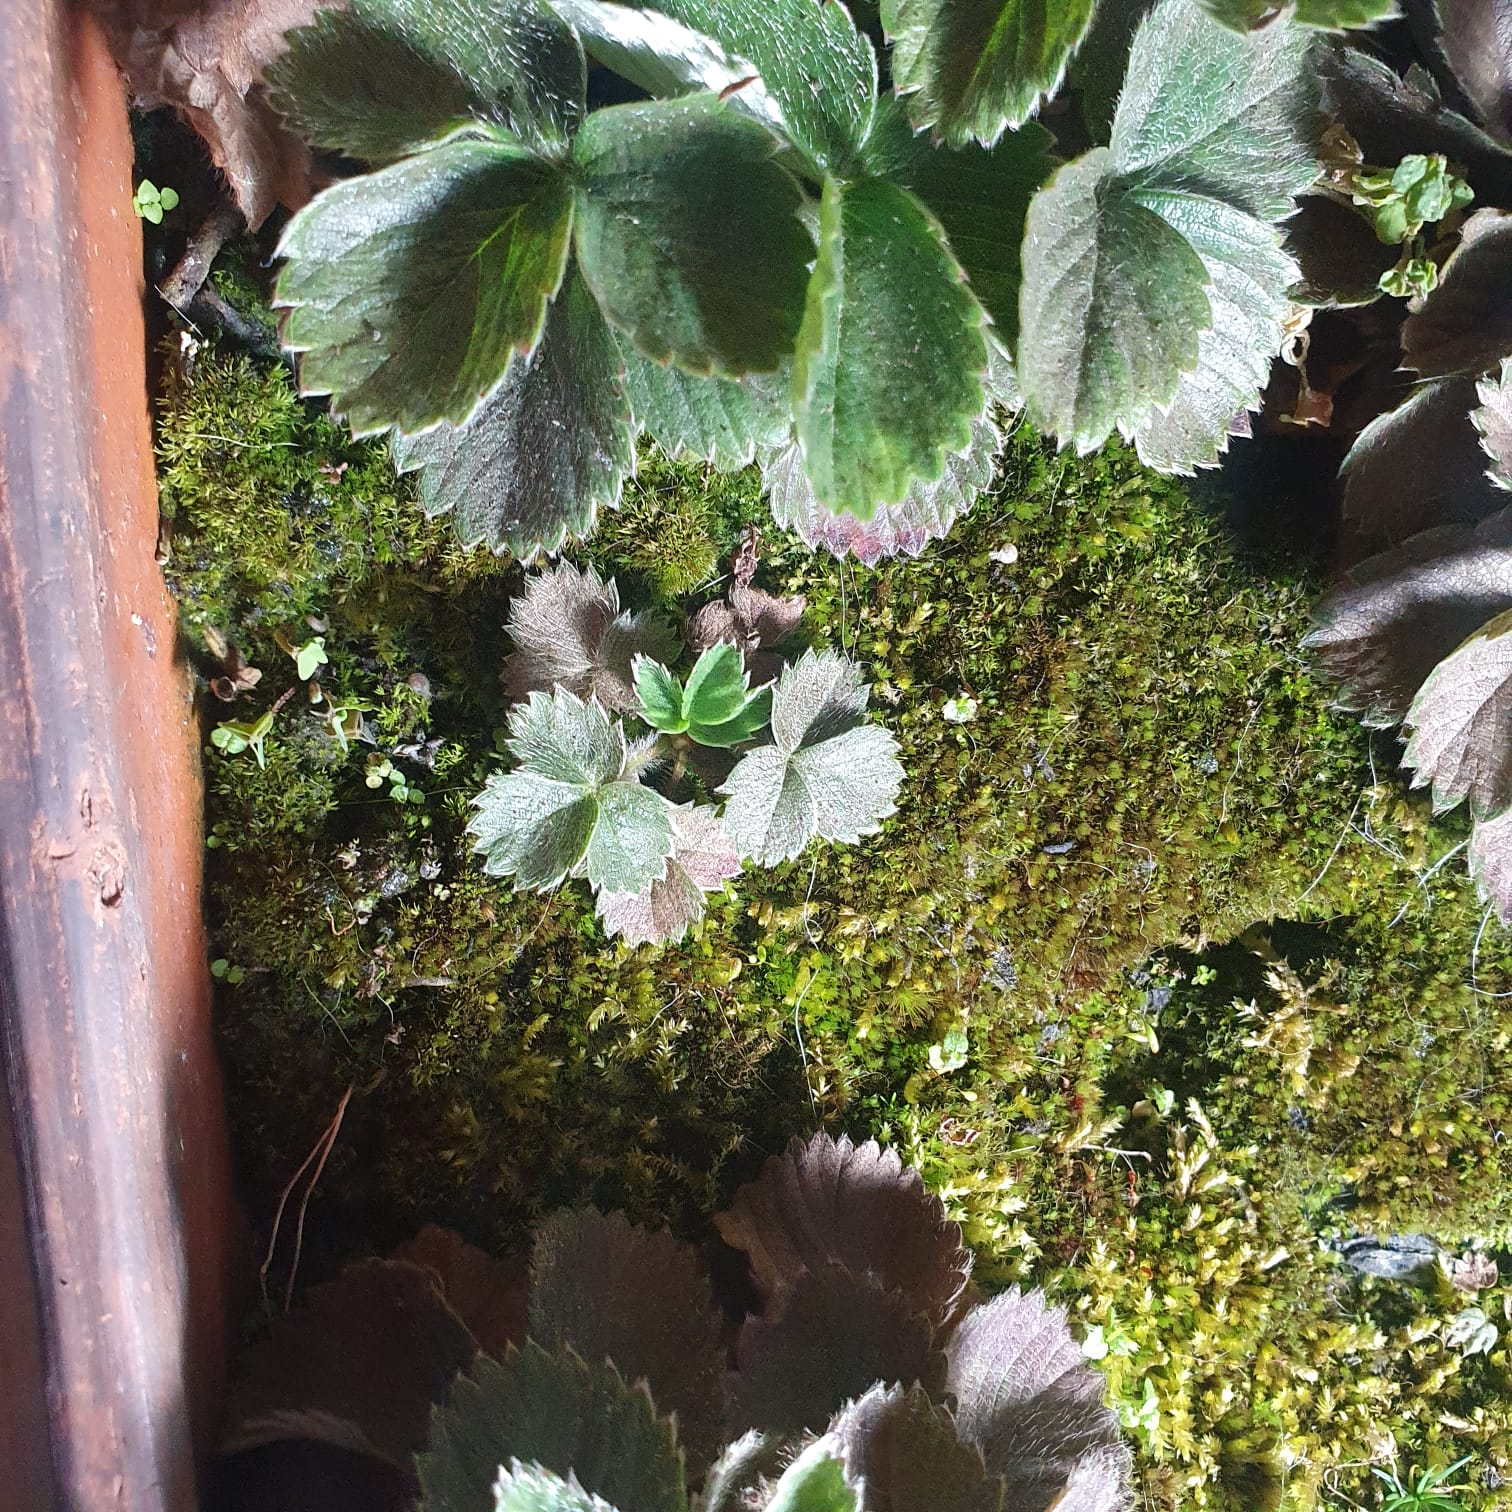sano: (295, 6, 1257, 438)
